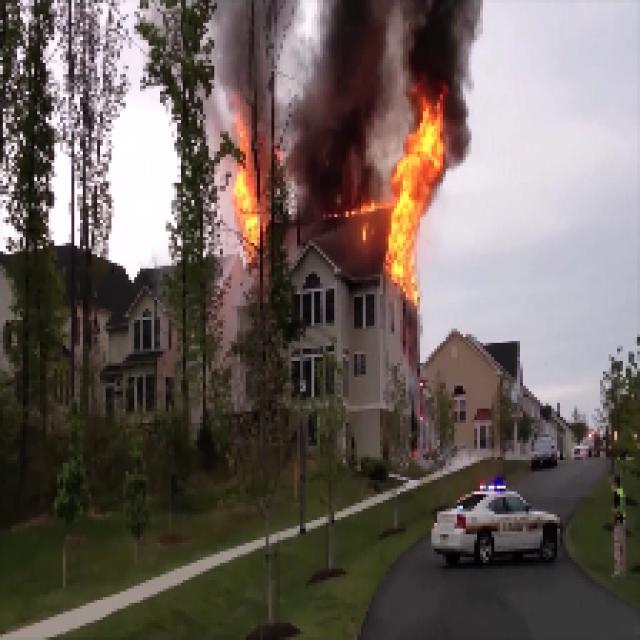fire: (390, 103, 435, 303), (230, 99, 268, 268)
smoke: (218, 0, 481, 97), (283, 100, 382, 206)
